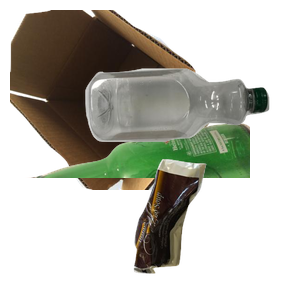cardboard: (10, 10, 218, 190)
glass: (23, 120, 263, 300)
plastic: (83, 66, 300, 201)
trash: (131, 157, 300, 300)
